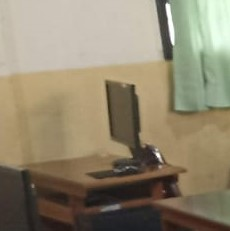monitor: (104, 79, 143, 162)
